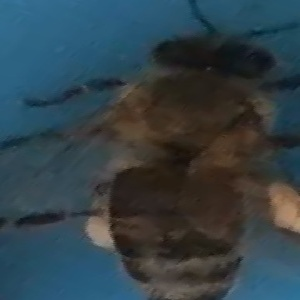bee: (25, 5, 300, 300)
